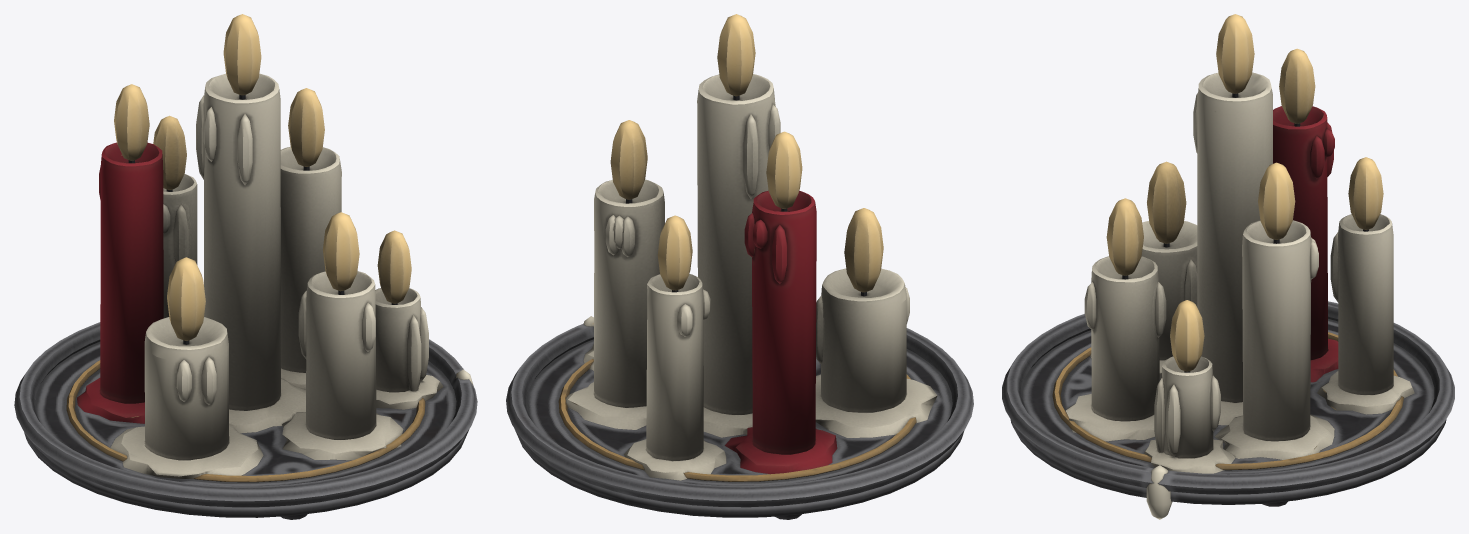
File: CandleCluster.fbx
3 renders of one model, left to right at view 1: azimuth 30°, elevation 25°; view 2: azimuth 150°, elevation 25°; view 3: azimuth 270°, elevation 25°, orthographic. The views are drawn at different scales.
Parts seen in each view (by area): view 1: CandleCluster_Main, CandleCluster_Glow; view 2: CandleCluster_Main, CandleCluster_Glow; view 3: CandleCluster_Main, CandleCluster_Glow.
Boxes of the visible parts, box(x1,y1,x2,y2) form: CandleCluster_Main: box(14, 73, 477, 519); CandleCluster_Glow: box(114, 14, 411, 340); CandleCluster_Main: box(506, 74, 973, 519); CandleCluster_Glow: box(610, 14, 883, 292); CandleCluster_Main: box(1002, 72, 1454, 519); CandleCluster_Glow: box(1106, 14, 1383, 371).
Size of the model in its own units: 132 by 138 by 132.
